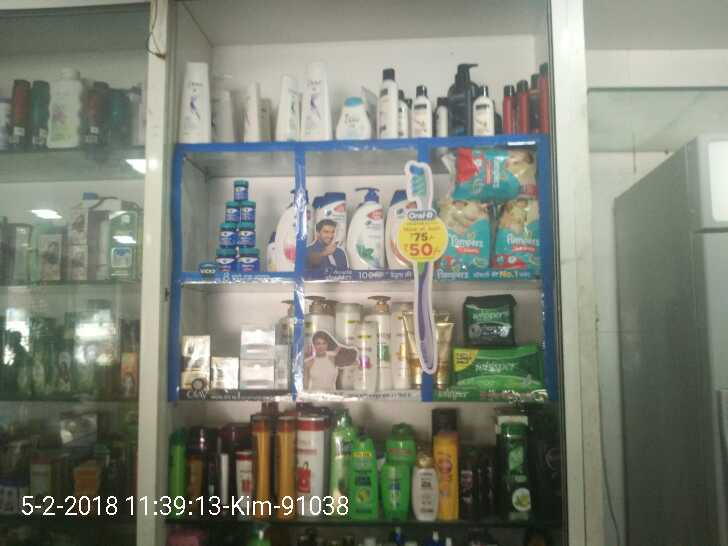beauty: (341, 184, 381, 268), (237, 327, 280, 391), (383, 184, 415, 267), (179, 331, 213, 392), (353, 323, 378, 390)
pharmacy: (446, 148, 534, 200), (451, 346, 544, 392), (489, 198, 543, 277), (440, 196, 490, 268), (466, 295, 514, 342), (208, 249, 238, 268), (234, 197, 255, 221), (232, 177, 252, 202), (234, 216, 252, 243), (219, 193, 236, 221), (214, 225, 236, 245), (243, 251, 260, 275)
